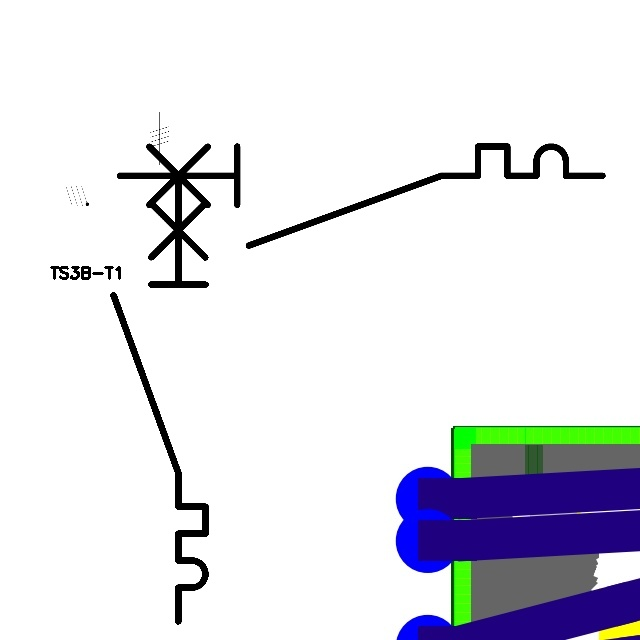interruptor_termomagnetico: (107, 134, 614, 258), (102, 164, 217, 632)
